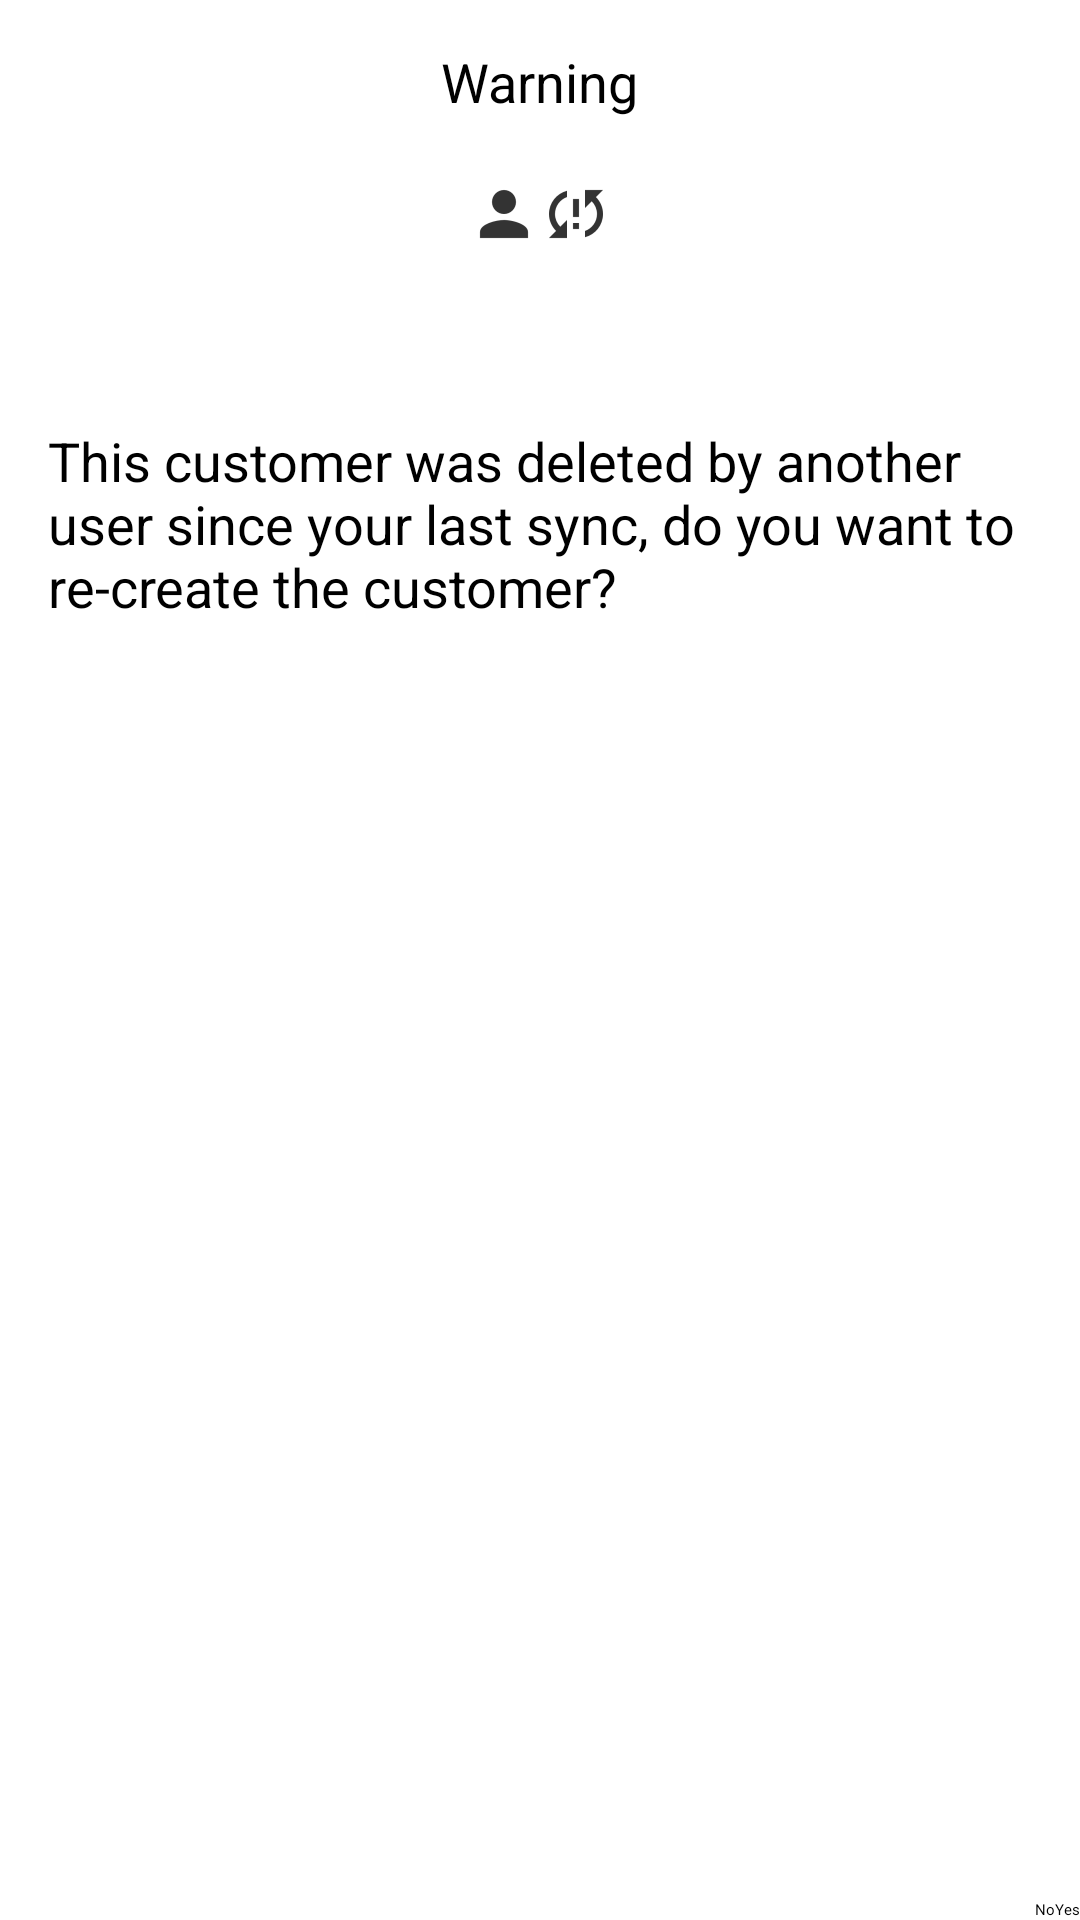

Icons on this 1080*1920 Android screen, each with the point to tap as (x=x, y=y):
person: (x=504, y=214)
sync error: (x=576, y=214)
